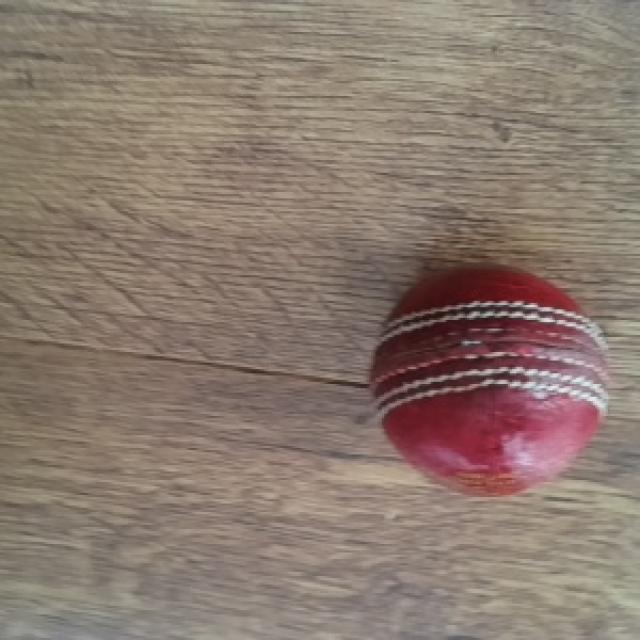ball: (369, 262, 610, 499)
